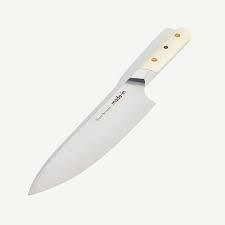Knife: (27, 24, 191, 196)
